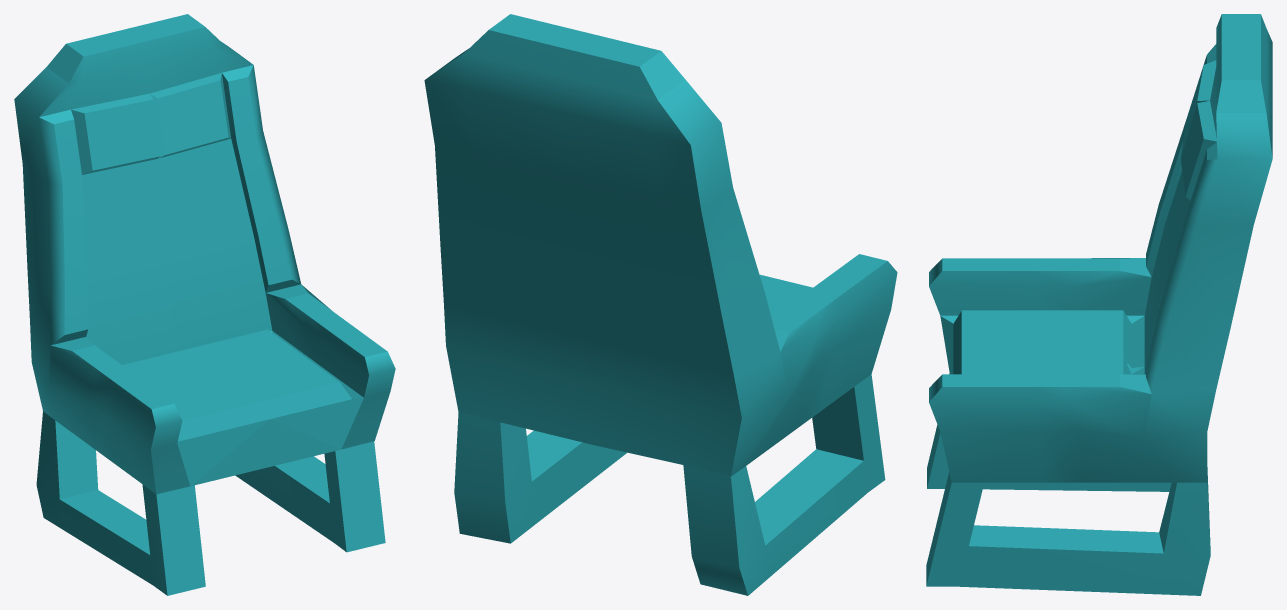
File: seat.fbx
The picture shows the model from 3 angles, left to right: view 1: azimuth 30°, elevation 25°; view 2: azimuth 150°, elevation 25°; view 3: azimuth 270°, elevation 25°; orthographic projection. The views are drawn at different scales.
Visible parts, largest first — view 1: seat; view 2: seat; view 3: seat.
Part boxes in pixels (x1=…): seat: x1=14, y1=14, x2=395, y2=595; seat: x1=424, y1=14, x2=897, y2=595; seat: x1=926, y1=14, x2=1272, y2=595.
Size of the model in its own units: 2.67 by 4.3 by 2.76.
